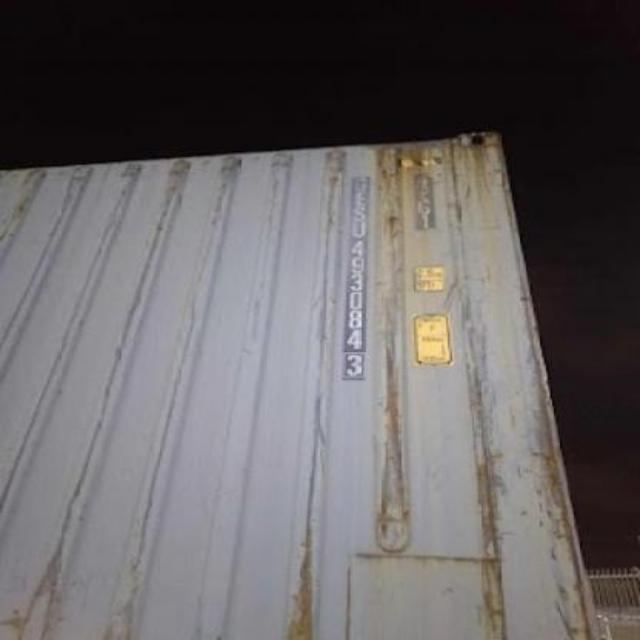0: (348, 291, 366, 311)
3: (344, 354, 364, 376), (350, 273, 366, 291)
4: (346, 330, 364, 348), (350, 239, 368, 255)
8: (346, 308, 366, 328)
9: (348, 258, 368, 272)
E: (352, 190, 370, 206)
G: (351, 174, 372, 190)
S: (350, 206, 370, 220)
U: (350, 220, 370, 238)
